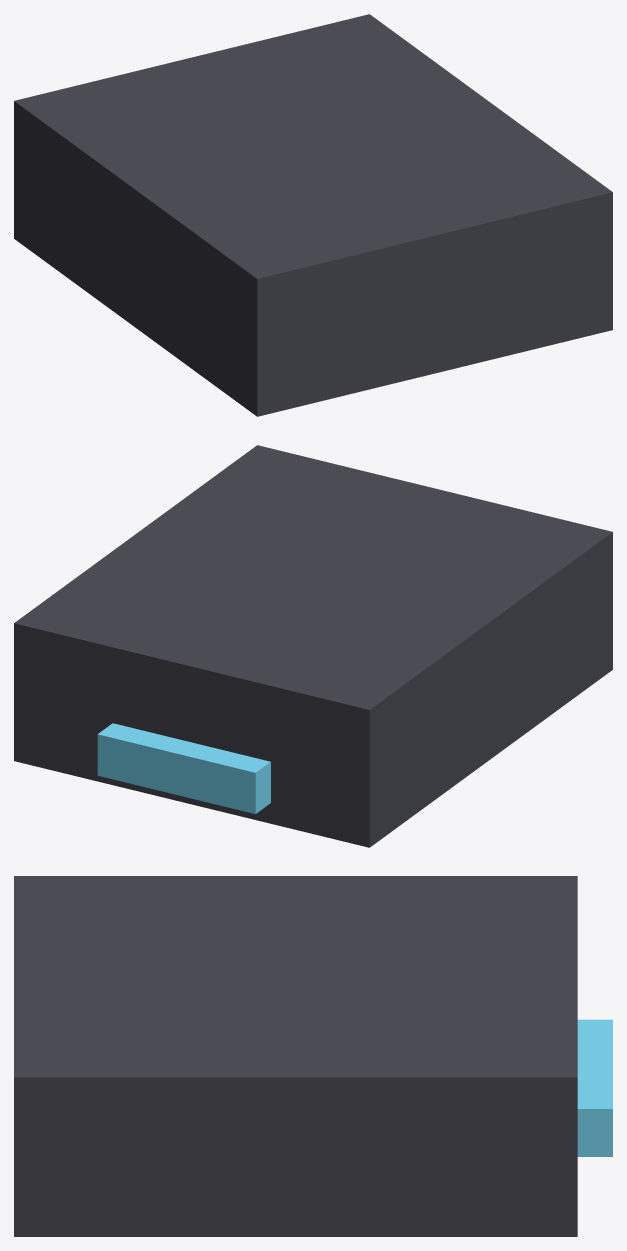
Rendered from cauboi_neon_pe.glb.
The picture shows the model from 3 angles, top to bottom: view 1: azimuth 30°, elevation 25°; view 2: azimuth 150°, elevation 25°; view 3: azimuth 270°, elevation 25°; orthographic projection. The views are drawn at different scales.
Visible parts, largest first — view 1: cauboi_neon_pe; view 2: cauboi_neon_pe; view 3: cauboi_neon_pe.
Part boxes in pixels (<box>): cauboi_neon_pe: <box>14,14,612,416</box>; cauboi_neon_pe: <box>14,445,612,847</box>; cauboi_neon_pe: <box>14,876,612,1236</box>.
Size of the model in its own units: 0.27 by 0.1 by 0.34.
